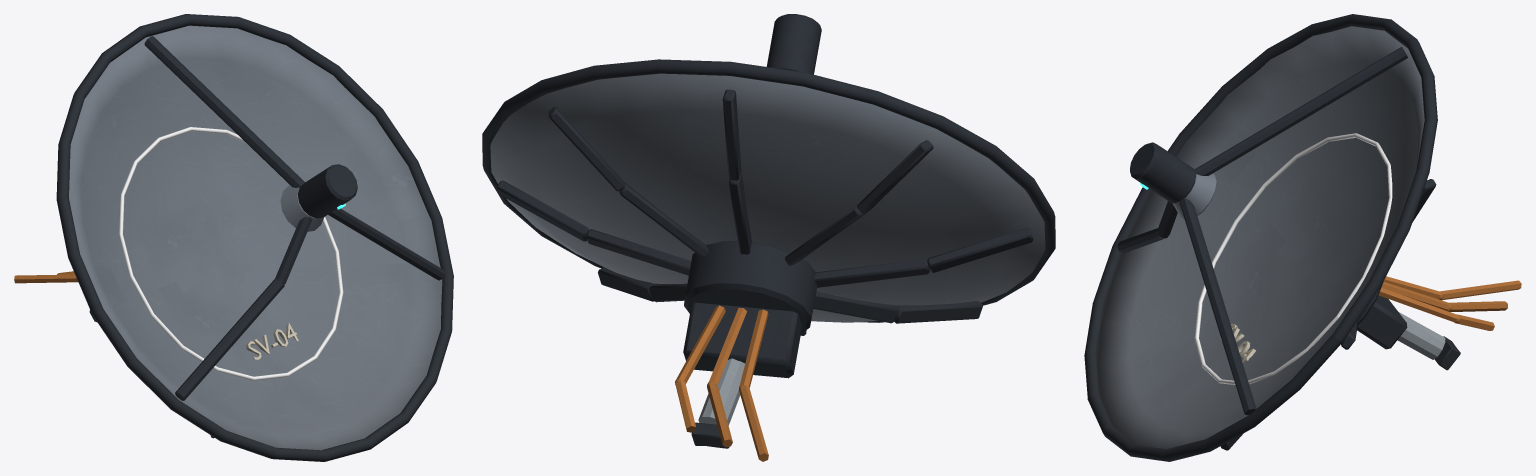
Rendered from antenna_dish_salvager.glb.
3 views of the same model, side by side, from view 1: azimuth 30°, elevation 25°; view 2: azimuth 150°, elevation 25°; view 3: azimuth 270°, elevation 25° (orthographic). The views are drawn at different scales.
Visible parts, largest first — view 1: antenna_dish_salvager; view 2: antenna_dish_salvager; view 3: antenna_dish_salvager.
Part boxes in pixels (x1,y1,x2,y2): antenna_dish_salvager: (14, 14, 453, 461); antenna_dish_salvager: (482, 14, 1055, 461); antenna_dish_salvager: (1084, 14, 1521, 461).
Bounding box in the file's own units: 2.61 × 2.09 × 2.3.
7 materials, 6 textured.
